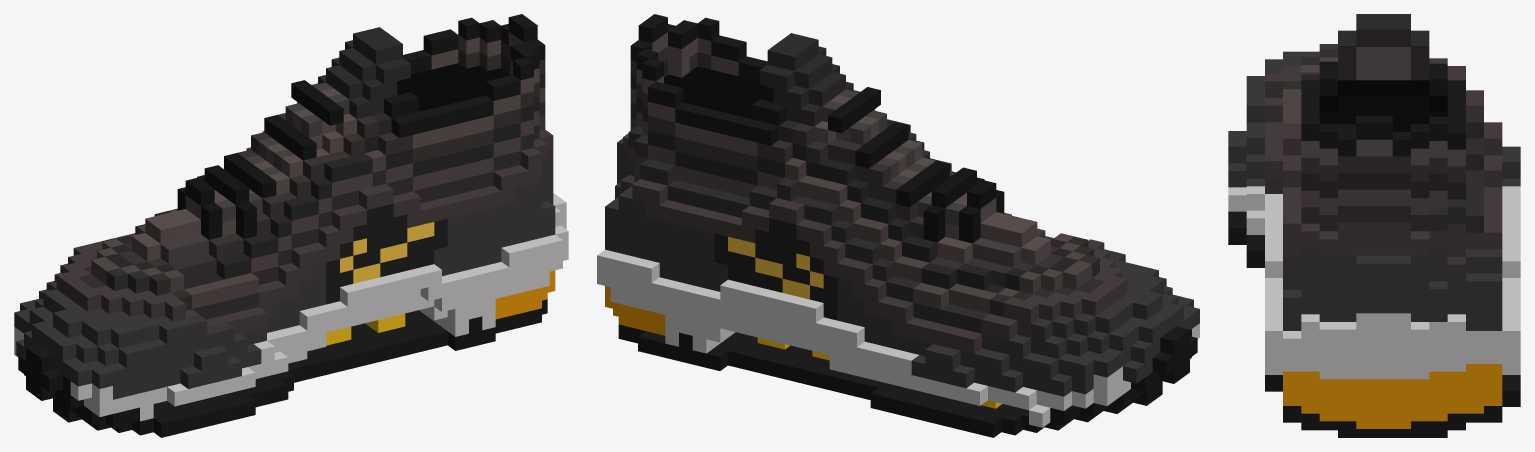
The model's file is Dandilion.fbx.
The picture shows the model from 3 angles, left to right: view 1: azimuth 30°, elevation 25°; view 2: azimuth 150°, elevation 25°; view 3: azimuth 270°, elevation 25°; orthographic projection. The views are drawn at different scales.
Parts seen in each view (by area): view 1: Untitled; view 2: Untitled; view 3: Untitled.
Boxes of the visible parts, x1,y1,x2,y2 form: Untitled: (14,14,568,437); Untitled: (597,14,1199,437); Untitled: (1228,14,1520,437).
Bounding box in the file's own units: 390 × 200 × 160.
